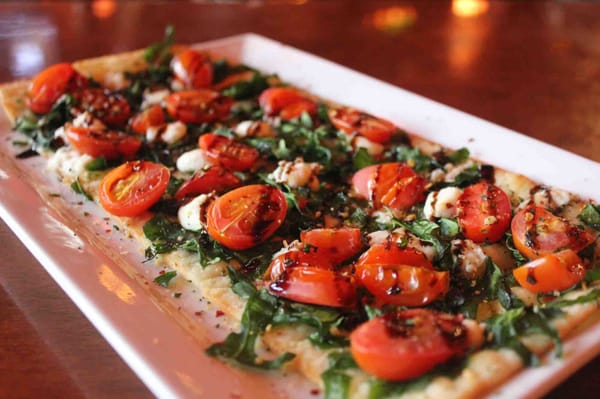pizza: (0, 5, 63, 83)
